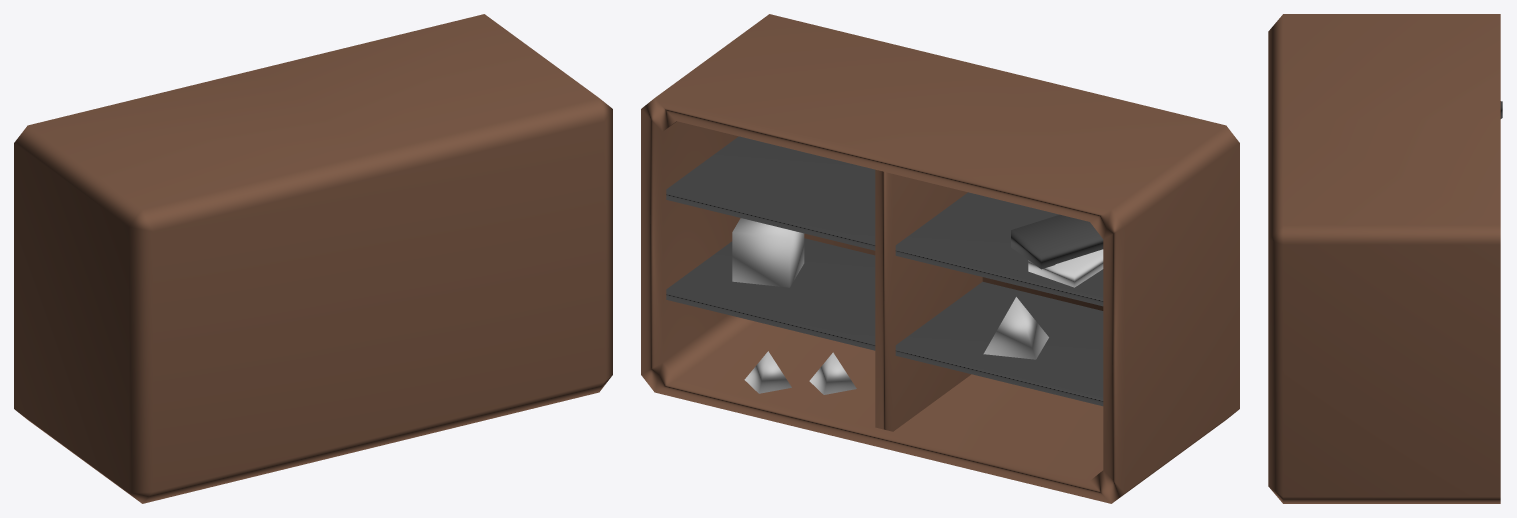
Rendered from mesh_shelf_01.fbx.
3 views of the same model, side by side, from view 1: azimuth 30°, elevation 25°; view 2: azimuth 150°, elevation 25°; view 3: azimuth 270°, elevation 25° (orthographic). The views are drawn at different scales.
Visible parts, largest first — view 1: mesh_shelf_01; view 2: mesh_shelf_01; view 3: mesh_shelf_01.
Boxes of the visible parts, <box> form: mesh_shelf_01: <box>14,14,612,503</box>; mesh_shelf_01: <box>641,14,1239,503</box>; mesh_shelf_01: <box>1268,14,1502,503</box>.
Size of the model in its own units: 41.52 by 24.14 by 18.38.
